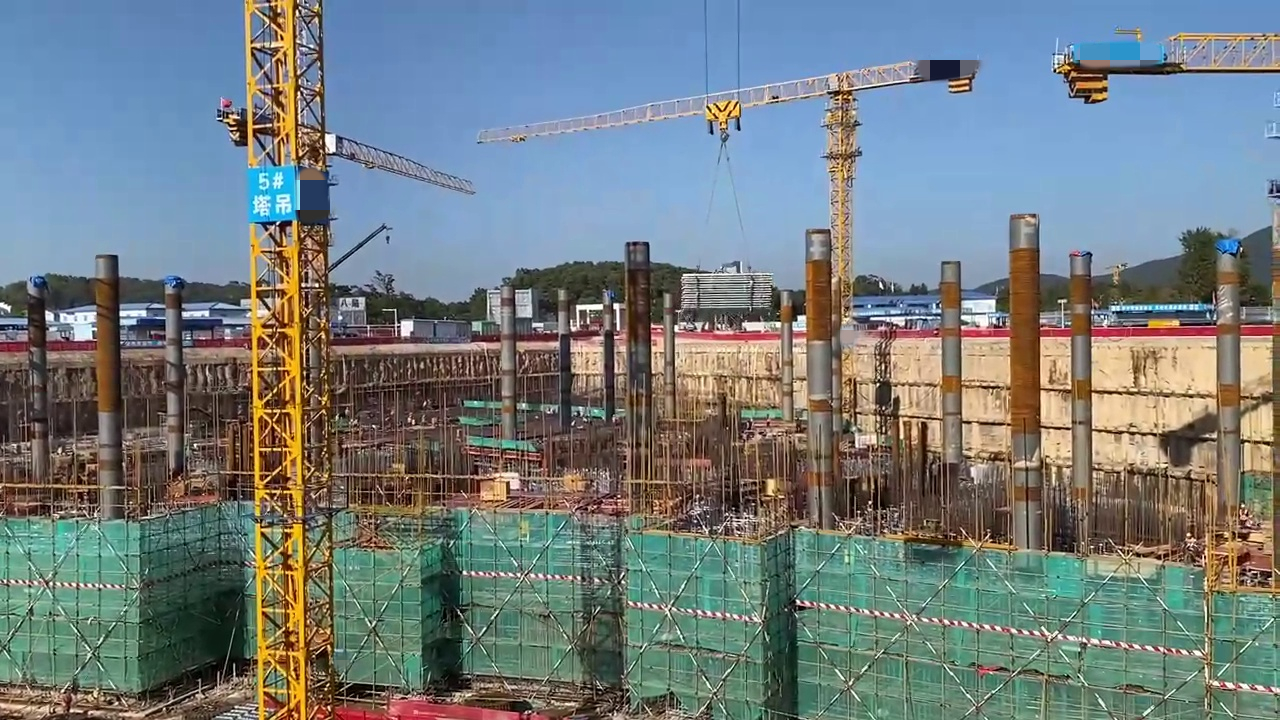fence: (385, 697, 532, 720)
hook: (703, 97, 743, 130)
scaffold: (681, 271, 775, 308)
